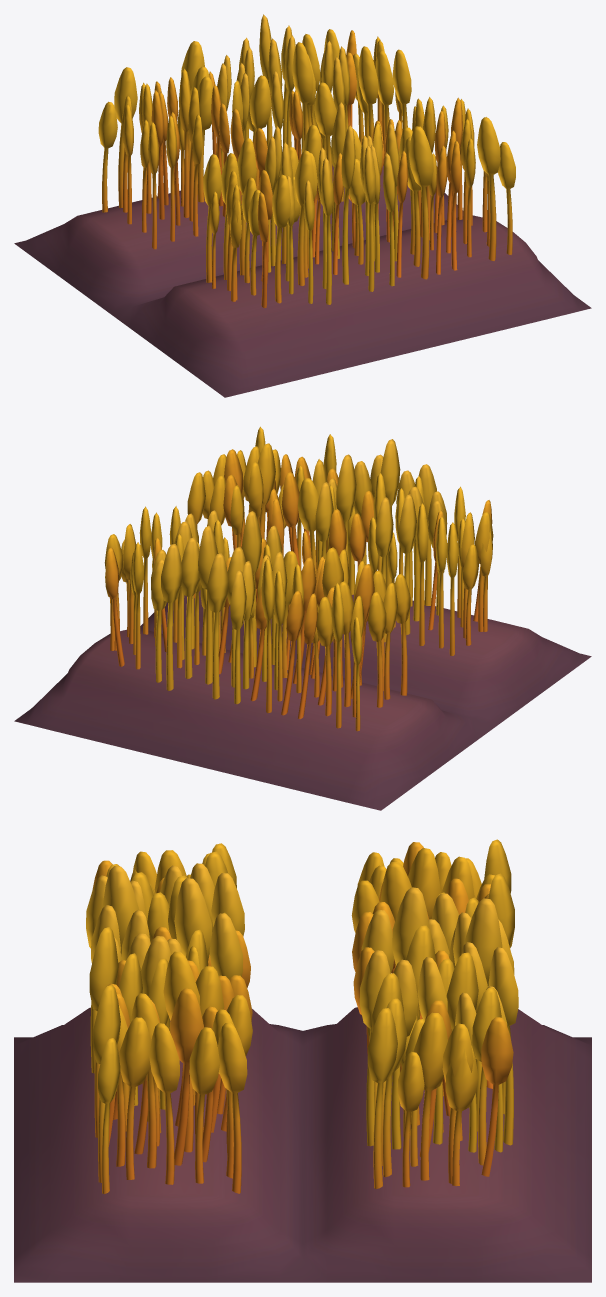
The model's file is wheat2.fbx.
3 views of the same model, one above another, from view 1: azimuth 30°, elevation 25°; view 2: azimuth 150°, elevation 25°; view 3: azimuth 270°, elevation 25° (orthographic). The views are drawn at different scales.
Parts seen in each view (by area): view 1: Farm_Wheat; view 2: Farm_Wheat; view 3: Farm_Wheat.
Part boxes in pixels (x1,y1,x2,y2): Farm_Wheat: [14, 14, 591, 397]; Farm_Wheat: [14, 426, 591, 810]; Farm_Wheat: [14, 839, 591, 1282].
Bounding box in the file's own units: 100 × 53.31 × 99.57.
Materials: 1 (1 with a texture image).
